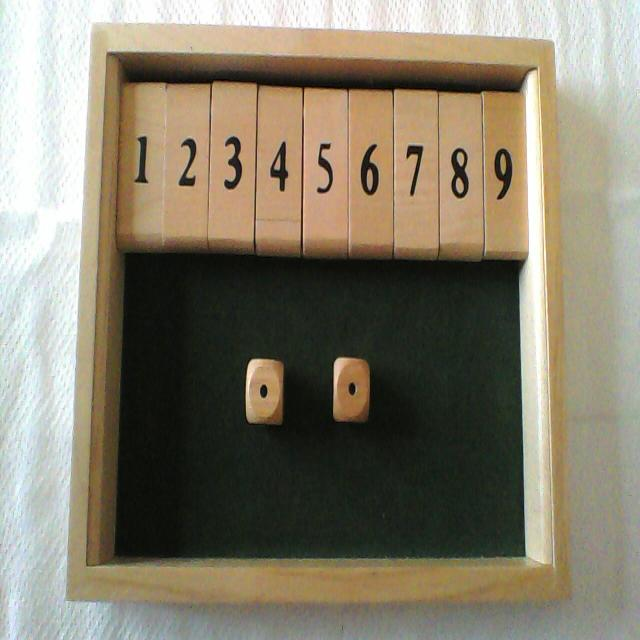1: (245, 358, 282, 424), (334, 358, 370, 422)
C1: (116, 22, 162, 251)
C2: (164, 24, 209, 252)
C3: (212, 26, 257, 256)
C4: (258, 27, 303, 254)
C5: (304, 29, 347, 261)
C6: (350, 30, 393, 260)
C7: (395, 31, 437, 261)
C8: (441, 34, 482, 260)
C9: (483, 35, 529, 260)
